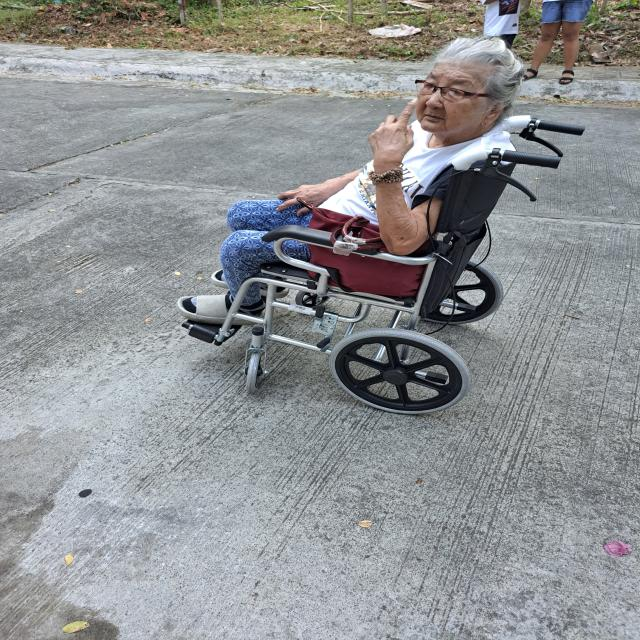wheelchairs: (153, 110, 591, 428)
